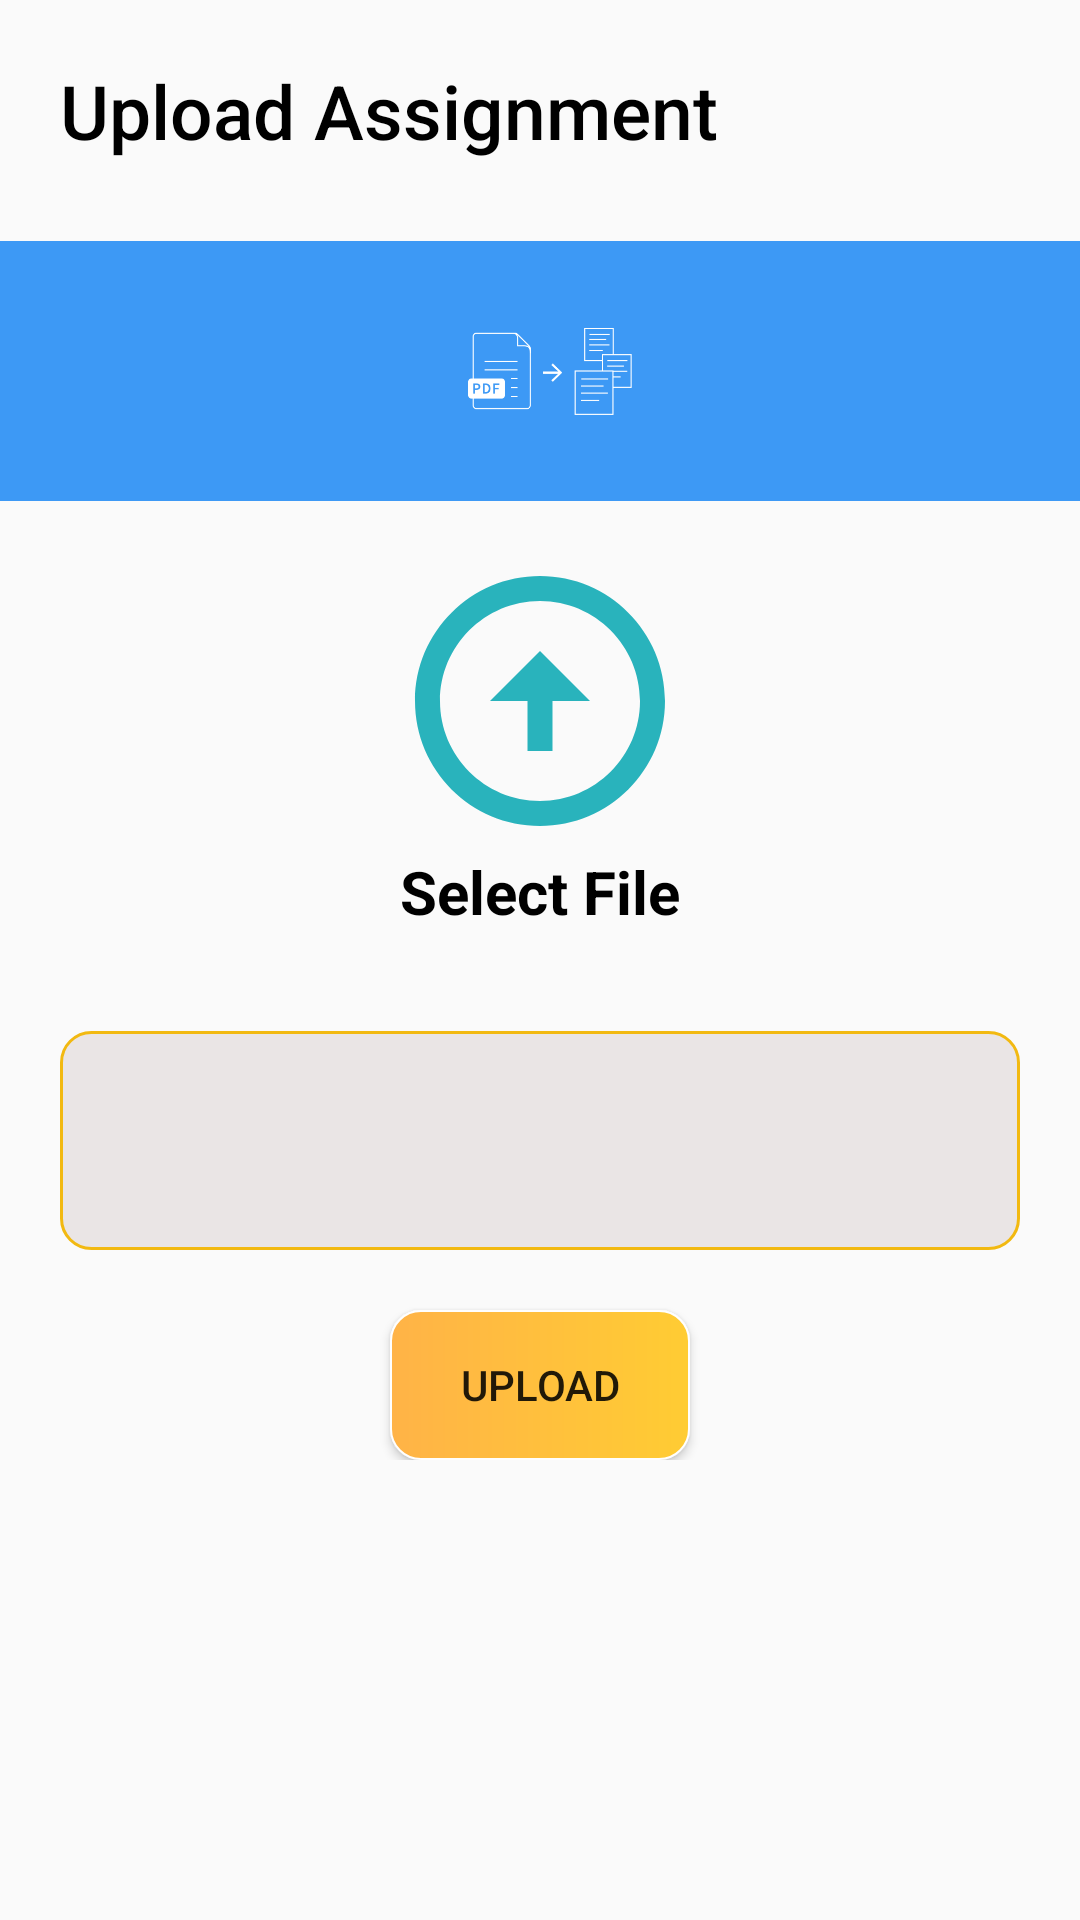

Screen size 1080x1920. Icon name, then its center in pixels as point (x, y):
upcircle: point (540, 701)
